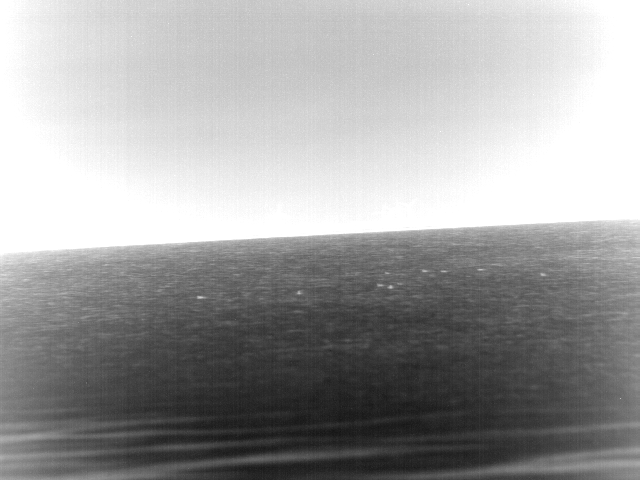dim target: (196, 295, 207, 300), (539, 272, 549, 277), (439, 269, 451, 273), (376, 282, 385, 287), (421, 268, 429, 273), (477, 267, 486, 271), (296, 290, 303, 295), (388, 284, 393, 290)
